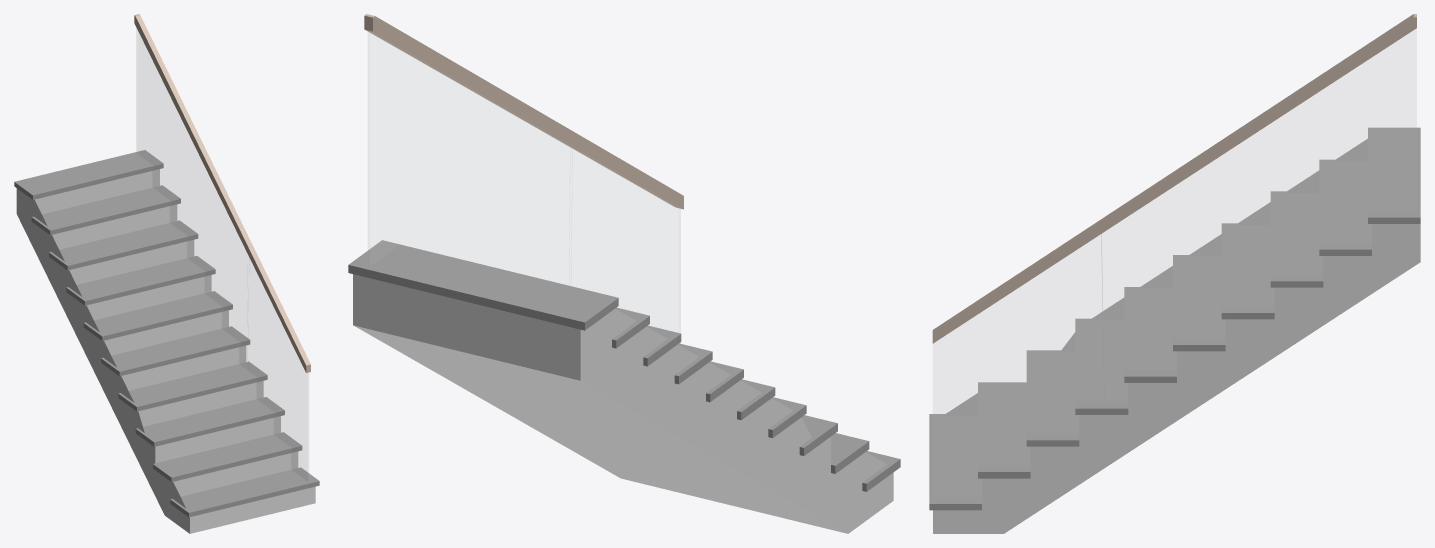
File: floating-stairs.glb
3 views of the same model, side by side, from view 1: azimuth 30°, elevation 25°; view 2: azimuth 150°, elevation 25°; view 3: azimuth 270°, elevation 25° (orthographic). The views are drawn at different scales.
Visible parts, largest first — view 1: Original lower treads, Original lower stair body, Original outer glass, Original outer handrail; view 2: Original lower stair body, Original outer glass, Original lower treads, Original outer handrail; view 3: Original outer glass, Original lower treads, Original lower stair body, Original outer handrail.
Boxes of the visible parts, x1,y1,x2,y2 form: Original lower treads: (14, 150, 319, 517); Original lower stair body: (16, 169, 315, 533); Original outer glass: (136, 28, 308, 481); Original outer handrail: (134, 14, 310, 372); Original lower stair body: (353, 274, 893, 533); Original outer glass: (368, 31, 680, 332); Original lower treads: (348, 240, 900, 491); Original outer handrail: (364, 14, 683, 209); Original outer glass: (933, 29, 1416, 496); Original lower treads: (929, 127, 1420, 510); Original lower stair body: (933, 138, 1420, 533); Original outer handrail: (932, 14, 1416, 343).
Size of the model in its own units: 0.9725 by 2.59 by 2.25.
